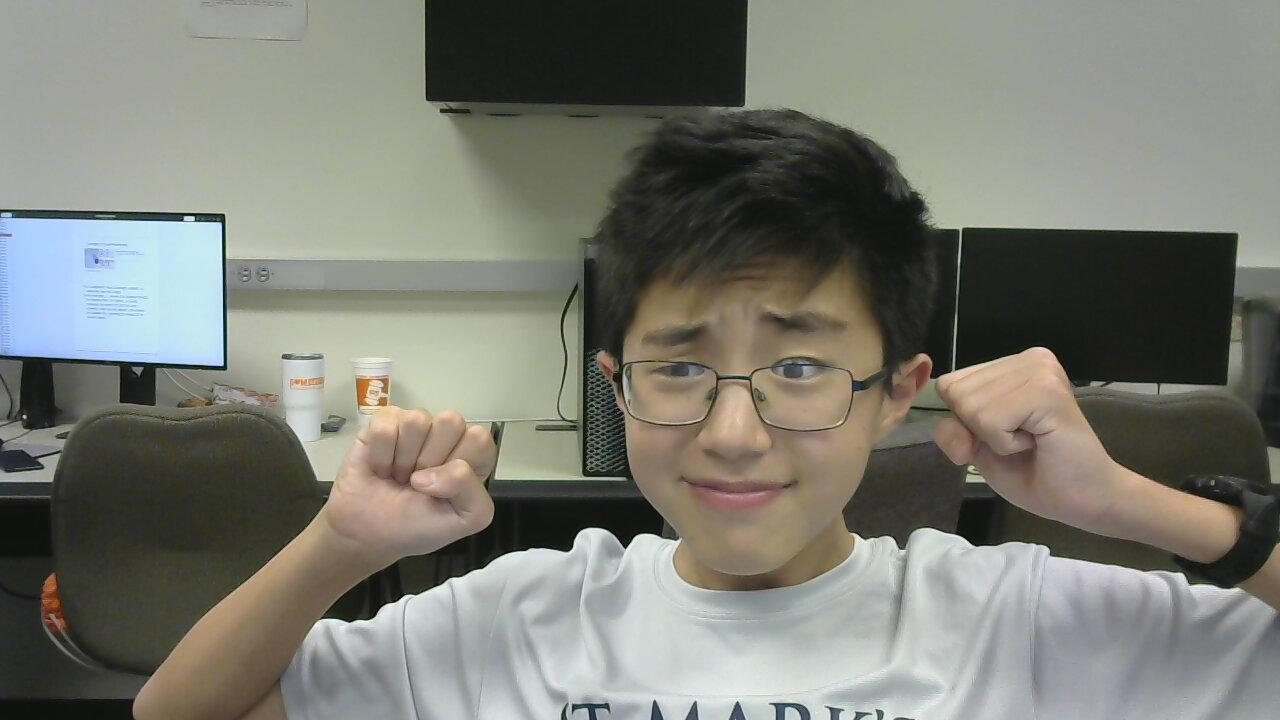fist: (921, 327, 1130, 558), (316, 387, 517, 581)
